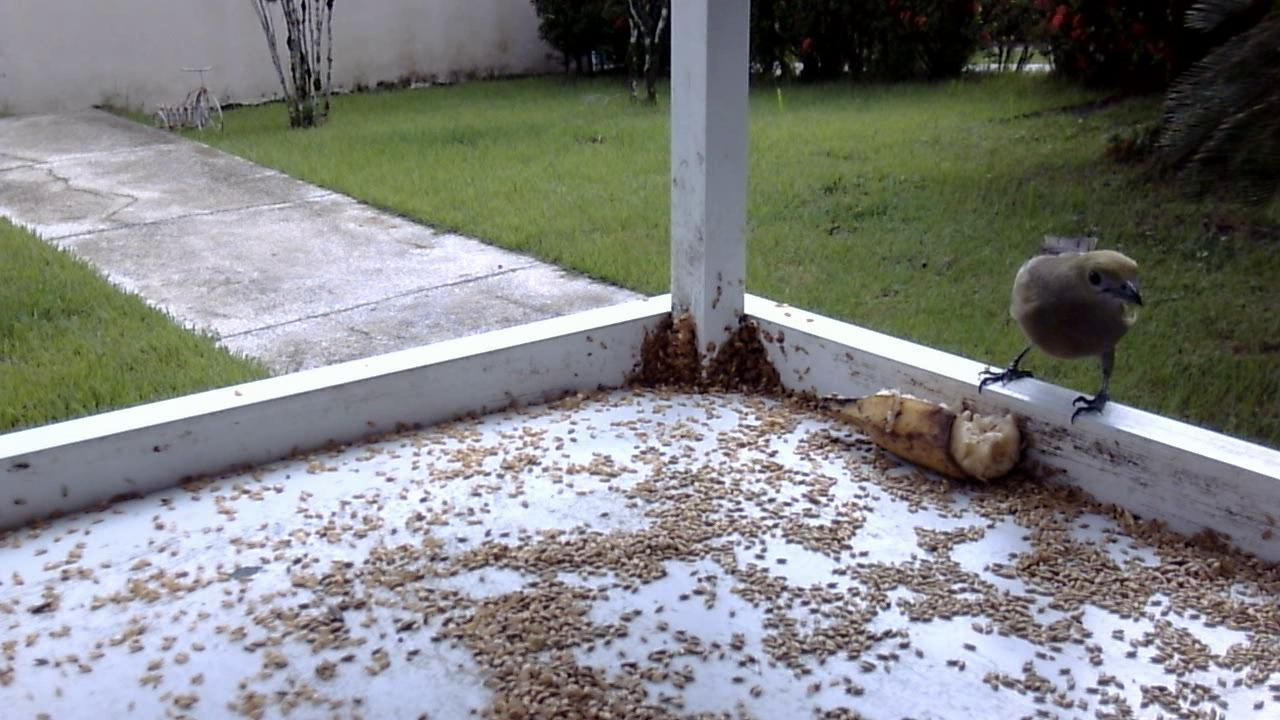sanhaco_do_coqueiro: (974, 228, 1149, 433)
